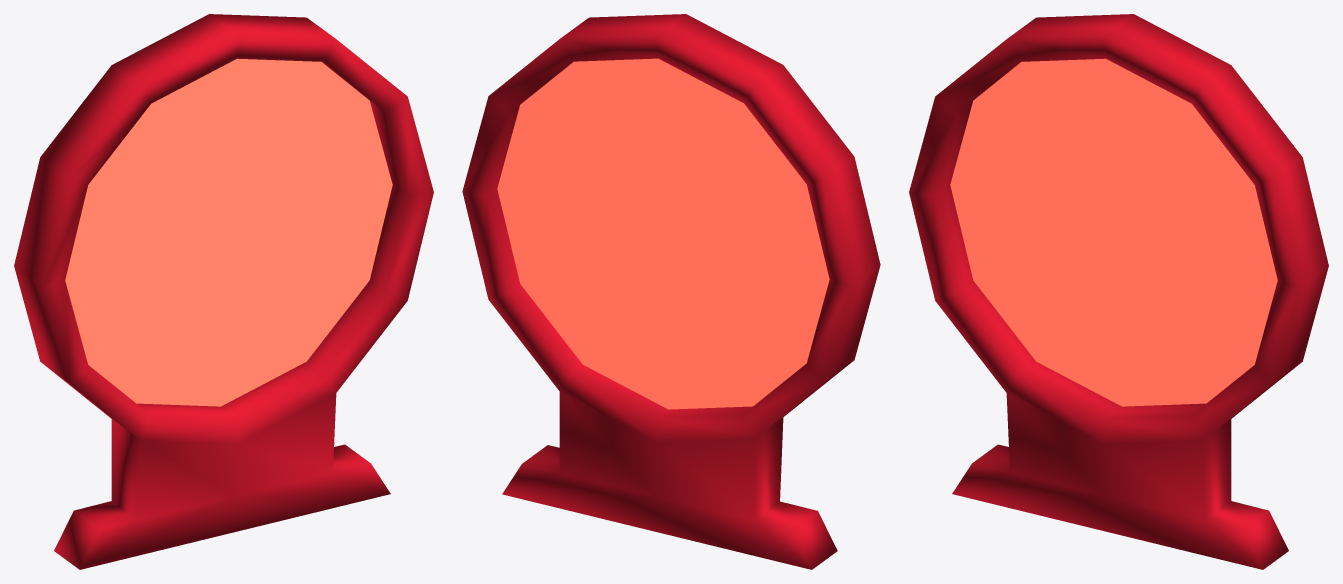
The model's file is essence_forge.glb.
3 views of the same model, side by side, from view 1: azimuth 30°, elevation 25°; view 2: azimuth 150°, elevation 25°; view 3: azimuth 330°, elevation 25° (orthographic).
Visible parts, largest first — view 1: essence_forge; view 2: essence_forge; view 3: essence_forge.
Boxes of the visible parts, x1,y1,x2,y2 form: essence_forge: (14,14,433,569); essence_forge: (462,14,880,569); essence_forge: (909,14,1328,569).
Size of the model in its own units: 0.7602 by 0.9283 by 0.0998.
